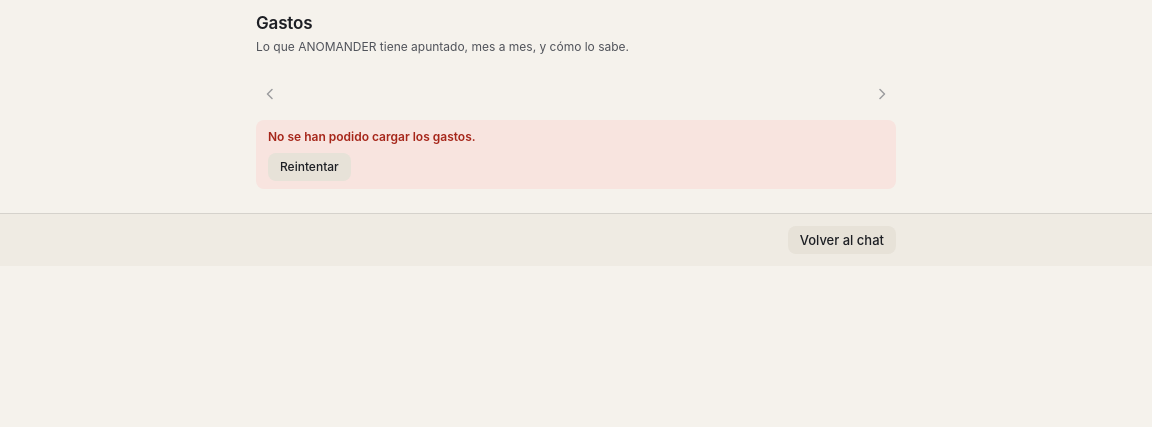
Test case: the expenses screen (DK-17) › says it could not load them when the daemon fails, and asks again on Reintentar
Expected: the message shows "No se han podido cargar los gastos.", [268,129,476,144]
Click the button "Reintentar" at (309, 167), box [268,153,351,181]
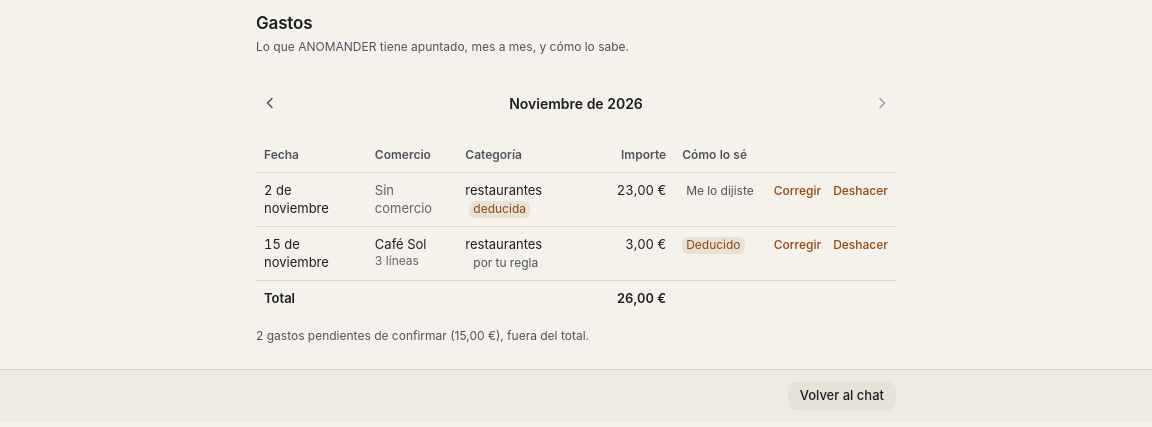
Expected: the message "No se han podido cargar los gastos. Reintentar" is gone
Expected: the number of rows is 4, [256,139,896,172]; [256,173,896,226]; [256,226,896,280]; [256,280,896,315]
